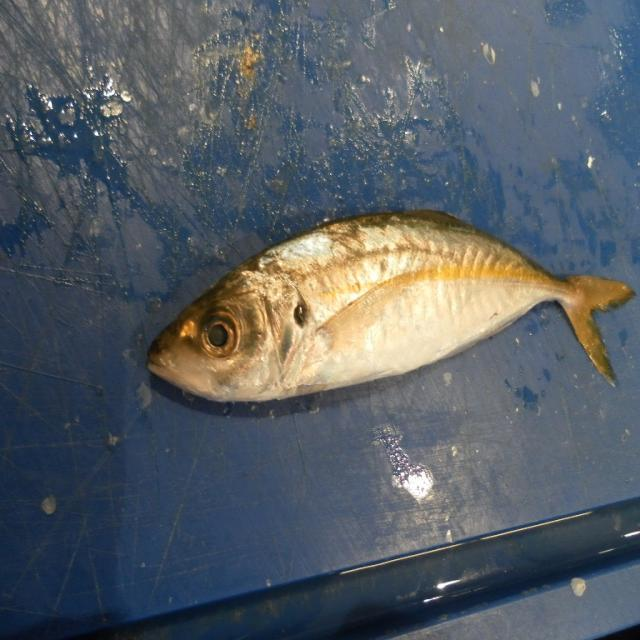Hourse-Mackerel-istavrit-: (144, 210, 634, 412)
